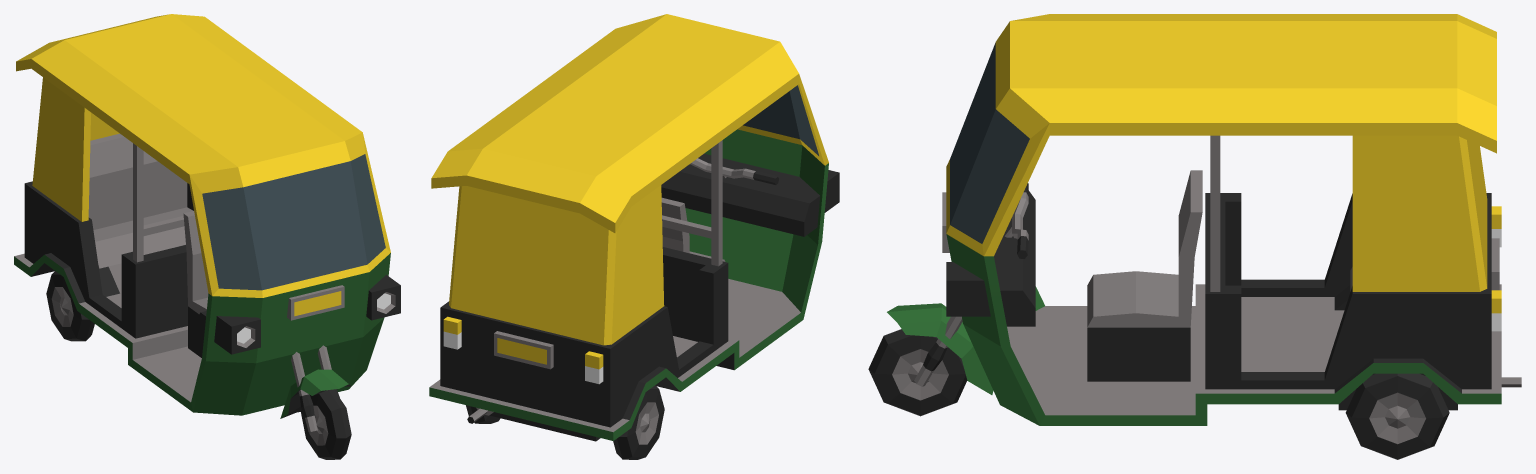
Rendered from vehicles_rickshaw.fbx.
3 renders of one model, left to right at view 1: azimuth 30°, elevation 25°; view 2: azimuth 150°, elevation 25°; view 3: azimuth 270°, elevation 25°, orthographic. The views are drawn at different scales.
Parts seen in each view (by area): view 1: rickshaw_base, rickshaw_wheel_F, rickshaw_wheel_B; view 2: rickshaw_base, rickshaw_wheel_B; view 3: rickshaw_base, rickshaw_wheel_B, rickshaw_wheel_F.
Boxes of the visible parts, left/top/right/bottom form: rickshaw_base: left=14, top=14, right=400, bottom=432; rickshaw_wheel_F: left=301, top=389, right=351, bottom=459; rickshaw_wheel_B: left=46, top=271, right=94, bottom=341; rickshaw_base: left=429, top=14, right=839, bottom=441; rickshaw_wheel_B: left=466, top=385, right=664, bottom=459; rickshaw_base: left=887, top=14, right=1521, bottom=425; rickshaw_wheel_B: left=1345, top=373, right=1449, bottom=459; rickshaw_wheel_F: left=868, top=329, right=967, bottom=416.
Bounding box in the file's own units: 81.43 × 122 × 200.
